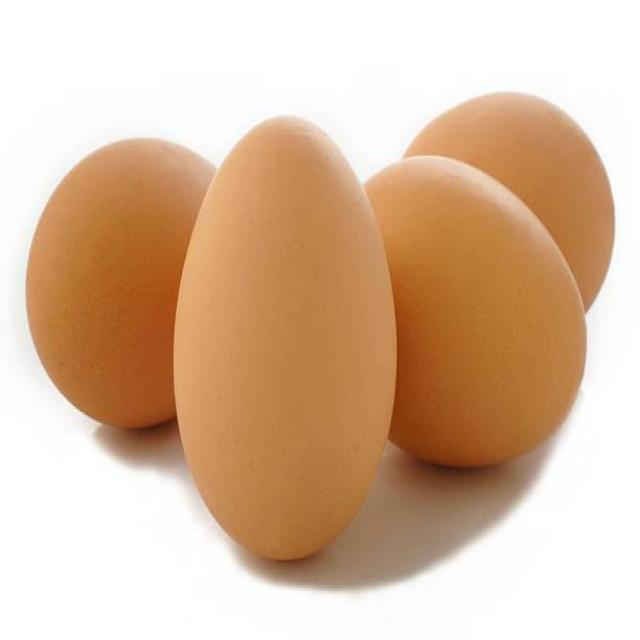Egg: (175, 118, 395, 558), (365, 157, 584, 464), (26, 138, 214, 426), (406, 93, 614, 310)
